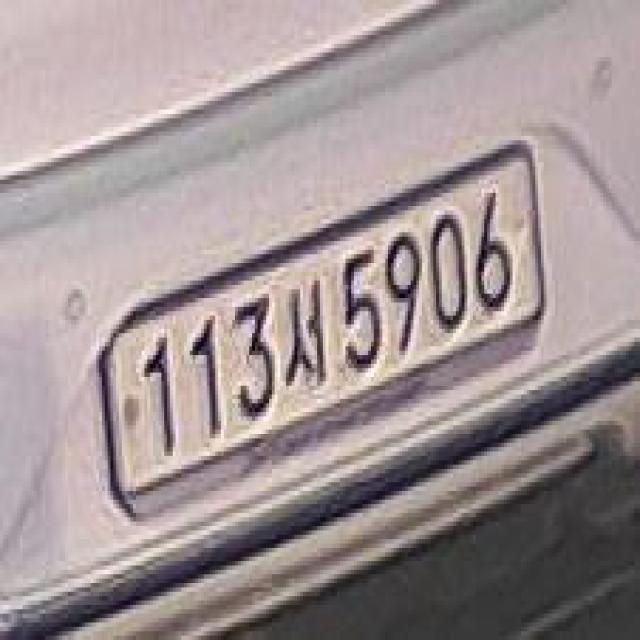illegal_plate: (94, 145, 552, 524)
